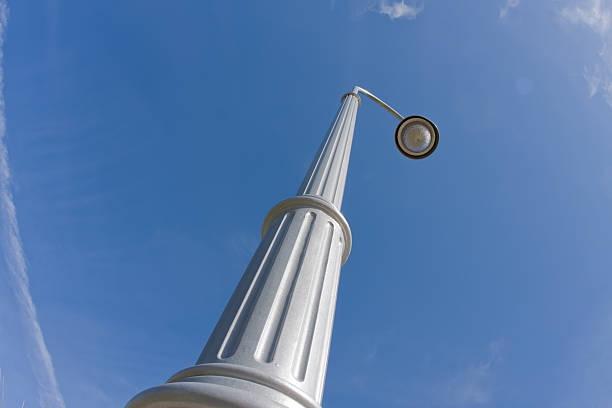light_pole: (179, 89, 357, 408)
